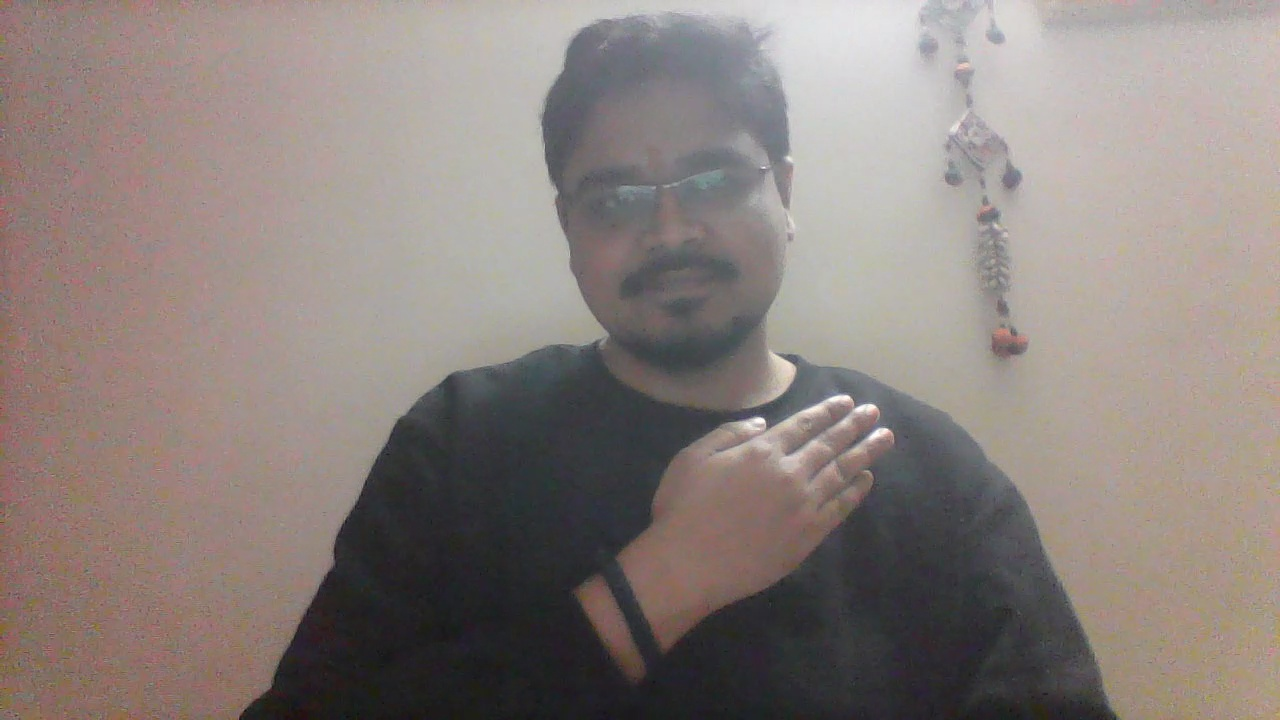Please: (648, 391, 897, 631)
